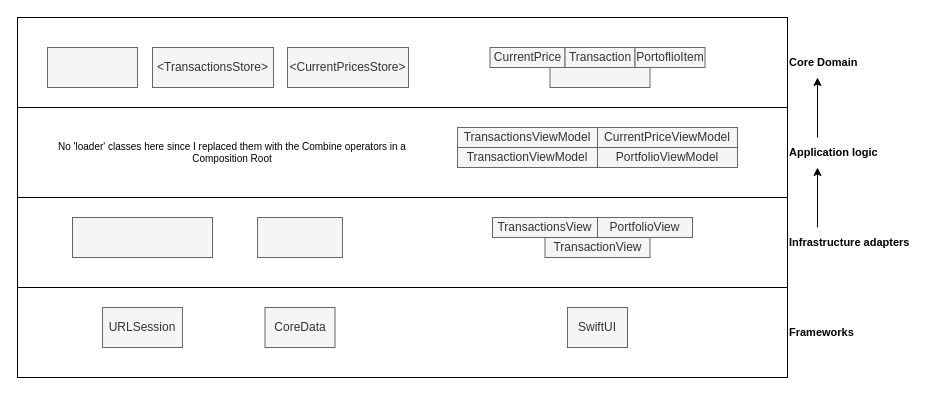
Image size: 927x395. Some labels were removed from this diagram. Here are the shapes that lost their labels. From the top down, the centre of each, then its label:
(x=92, y=67): <HTTPClient>
(x=599, y=77): PortfolioSummary
(x=142, y=237): URLSessionHTTPClient
(x=299, y=237): CoreDataStore
